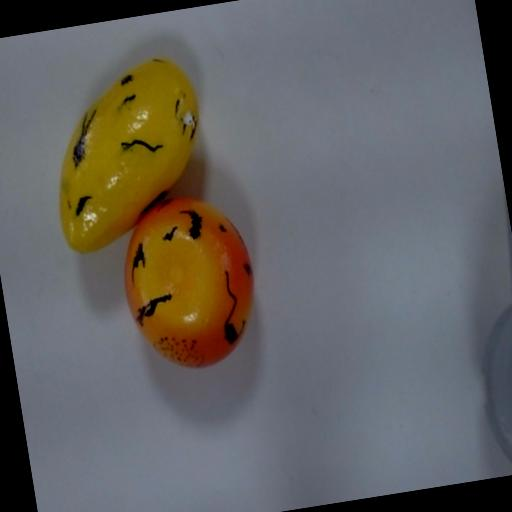Defective: (103, 186, 323, 408), (34, 46, 221, 245)
